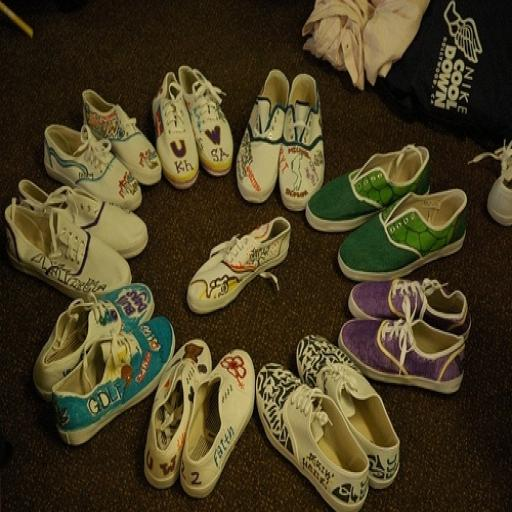shoe: (256, 363, 369, 512), (52, 317, 175, 446), (296, 335, 399, 489), (32, 283, 154, 401), (4, 198, 132, 298), (338, 189, 467, 281), (180, 349, 255, 498), (305, 145, 430, 232), (18, 178, 148, 258), (186, 216, 291, 314), (144, 340, 212, 489), (338, 318, 465, 394), (44, 124, 142, 210), (82, 89, 162, 186), (348, 278, 471, 340), (236, 69, 288, 203), (178, 64, 234, 176), (278, 74, 324, 210), (152, 72, 198, 189), (470, 140, 512, 226)
